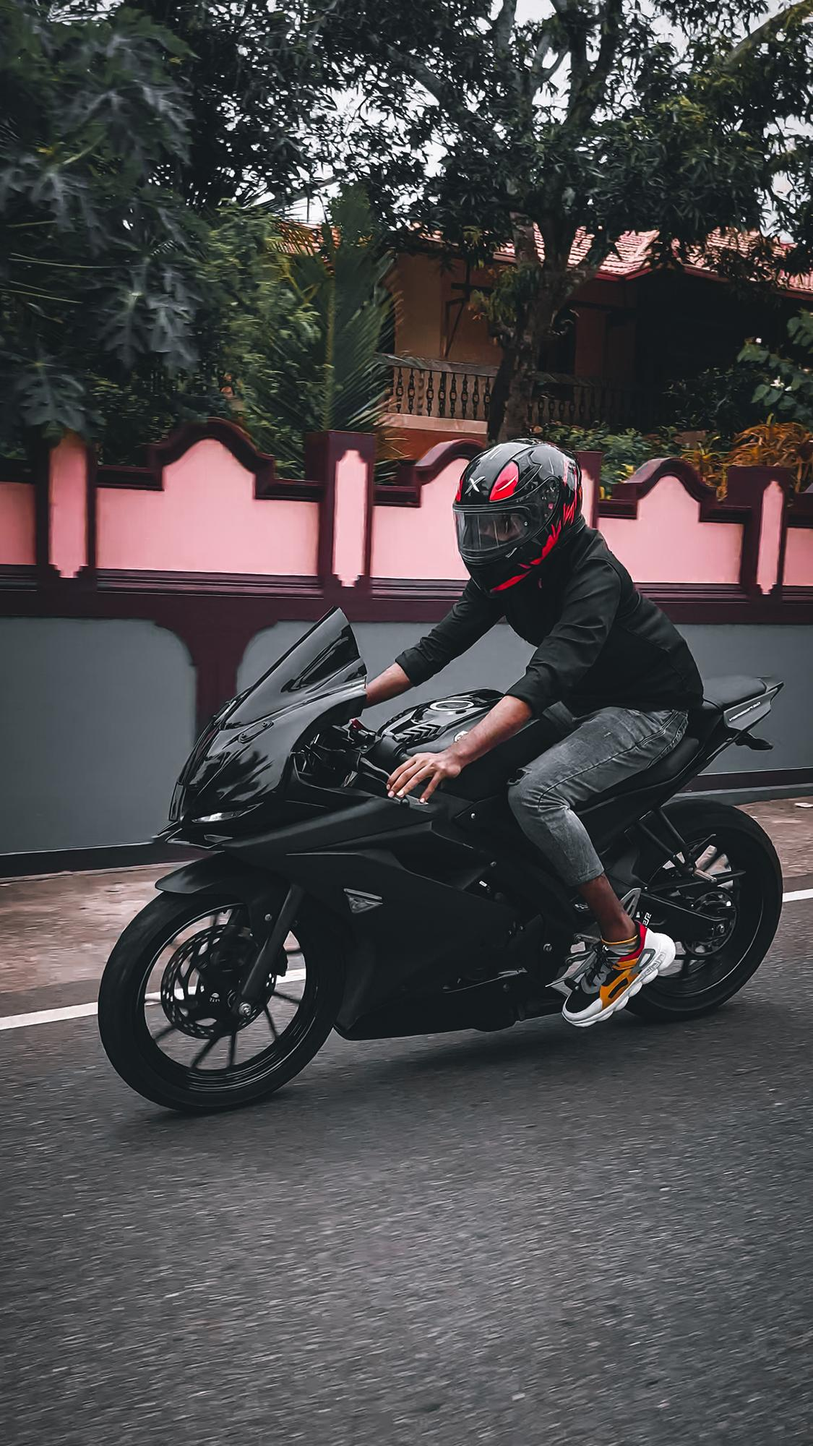helmet: (452, 437, 584, 599)
